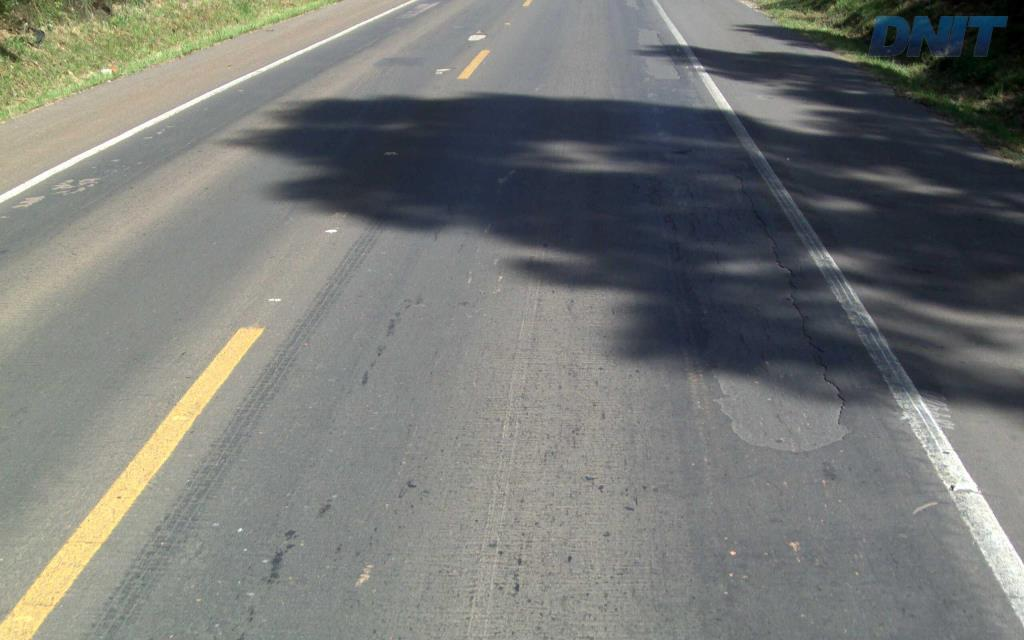pothole: (655, 160, 850, 461), (632, 23, 683, 83)
